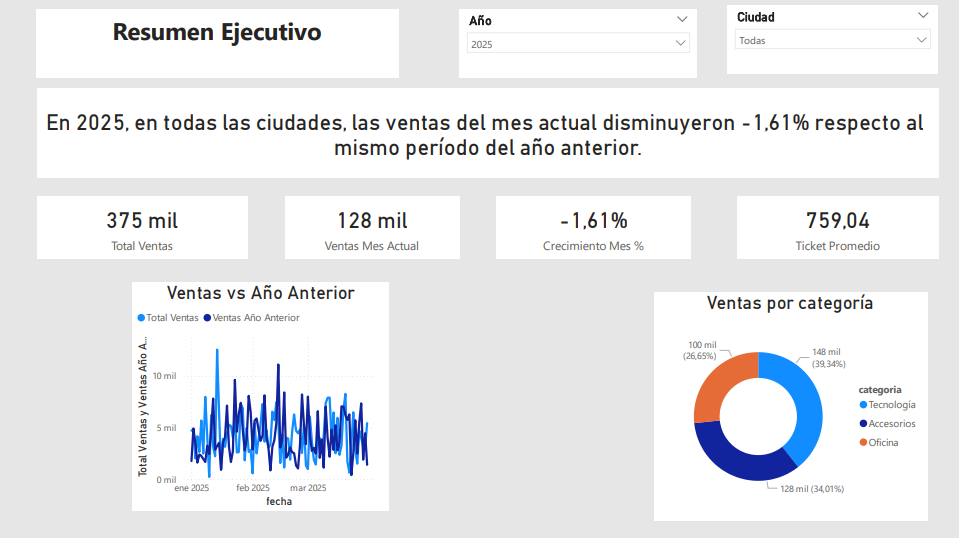

The page's visual inventory and layout, read from the dashboard file:
{"tool":"powerbi","page":{"name":"Resumen Ejecutivo","canvas":[1280,720],"ordinal":0},"visuals":[{"type":"card","fields":{"Values":["Medidas.Total Ventas"]},"box":[49,263.5,280.8,83.5],"z":0},{"type":"card","fields":{"Values":["Medidas.Ticket Promedio"]},"box":[982.1,263.5,267.8,83.5],"z":1000},{"type":"slicer","fields":{"Values":["calendario.año"]},"box":[611.7,14.6,317.6,92.2],"z":2000},{"type":"slicer","fields":{"Values":["clientes.ciudad"]},"box":[969.1,10.1,280.8,92.2],"z":3000},{"type":"lineChart","title":"Ventas vs Año Anterior","fields":{"Category":["calendario.fecha"],"Y":["Medidas.Total Ventas","Medidas.Ventas Año Anterior"]},"box":[176.9,379.5,341.1,304.2],"z":5000},{"type":"card","fields":{"Values":["Medidas.Crecimiento Mes %"]},"box":[661,263.5,259.2,83.5],"z":6000},{"type":"donutChart","title":"Ventas por categoría","fields":{"Category":["productos.categoria"],"Y":["Medidas.Total Ventas"]},"box":[870.7,392.2,364.4,304.4],"z":7000},{"type":"card","fields":{"Values":["Medidas.Ventas Mes Actual"]},"box":[378.7,263.5,233.3,83.5],"z":8000},{"type":"card","fields":{"Values":["Medidas.Texto KPI Crecimiento"]},"box":[49,119.5,1201,121],"z":9000},{"type":"textbox","box":[48,15,483,92],"z":9001}]}

Visuals, with their boxes in screenshot pixels (x1, y1, x2, y2), scaled from the page's 1280x720 canvas onto the 959x540 screenshot:
card - Medidas.Total Ventas: box=[37, 198, 247, 260]
card - Medidas.Ticket Promedio: box=[736, 198, 936, 260]
slicer - calendario.año: box=[458, 11, 696, 80]
slicer - clientes.ciudad: box=[726, 8, 936, 77]
"Ventas vs Año Anterior" lineChart: box=[133, 285, 388, 513]
card - Medidas.Crecimiento Mes %: box=[495, 198, 689, 260]
"Ventas por categoría" donutChart: box=[652, 294, 925, 522]
card - Medidas.Ventas Mes Actual: box=[284, 198, 459, 260]
card - Medidas.Texto KPI Crecimiento: box=[37, 90, 937, 180]
textbox: box=[36, 11, 398, 80]
